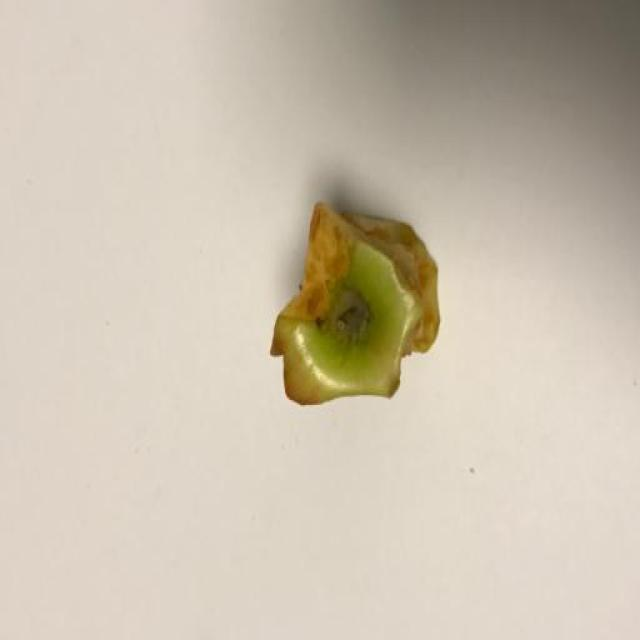Random Trash: (268, 200, 441, 405)
